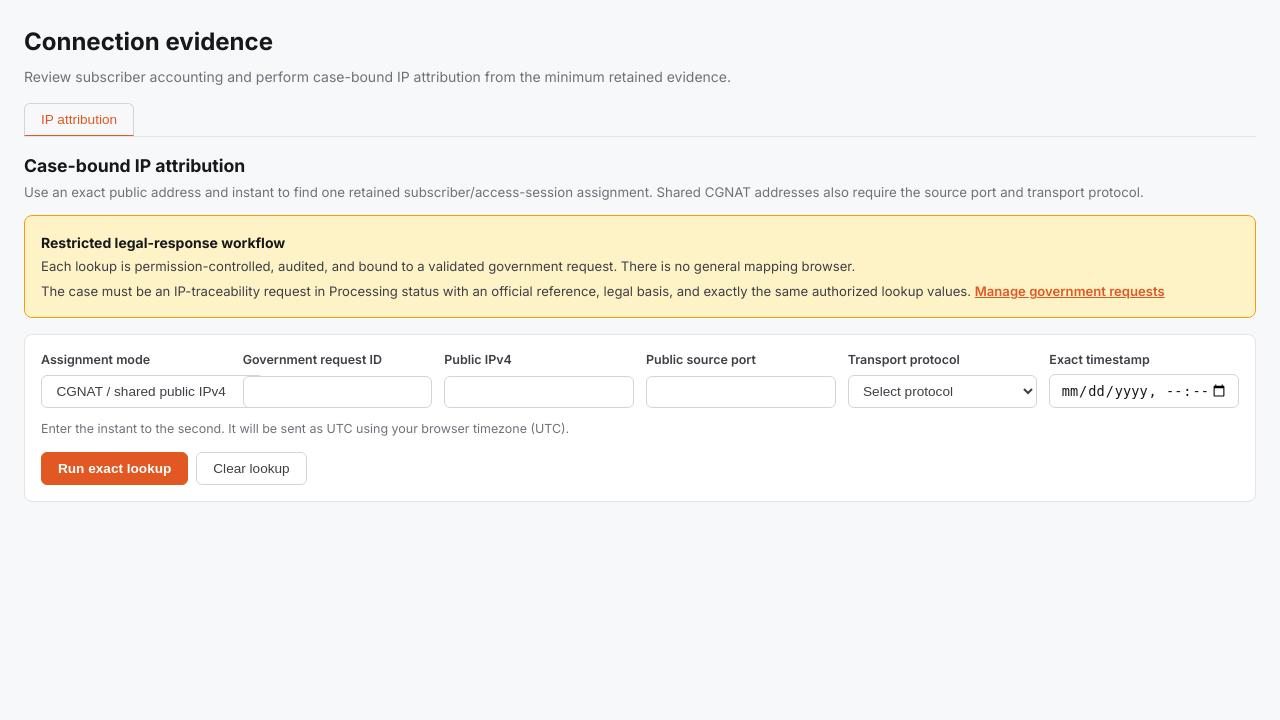
Scenario: ConnectionLogList › refuses to download case evidence when the CSV bytes fail the server checksum
Check: the tab "IP attribution" is shown, box x1=24 y1=103 x2=134 y2=136
Type "73" into the number field labelled "Government request ID" at (338, 392), box x1=243 y1=376 x2=432 y2=408
Type "198.51.100.8" into the field labelled "Public IPv4" at (539, 392), box x1=444 y1=376 x2=634 y2=408
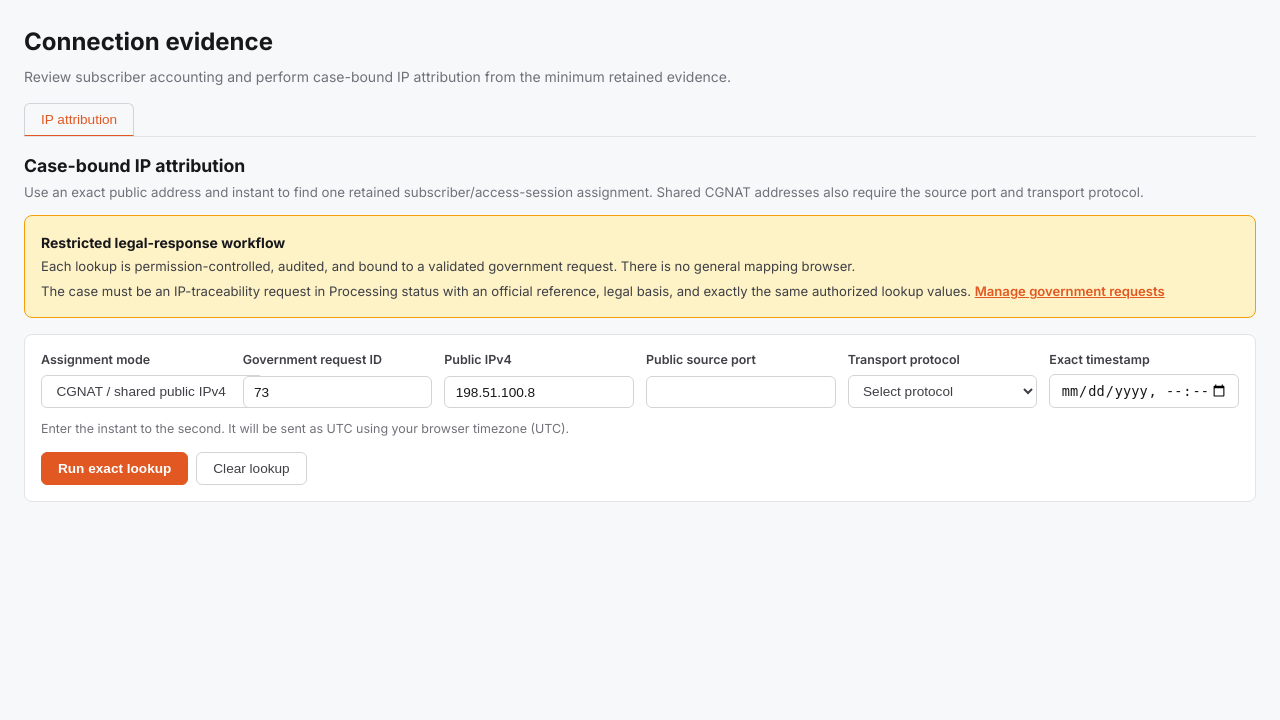
Type "62001" into the number field labelled "Public source port" at (741, 392), box x1=646 y1=376 x2=836 y2=408
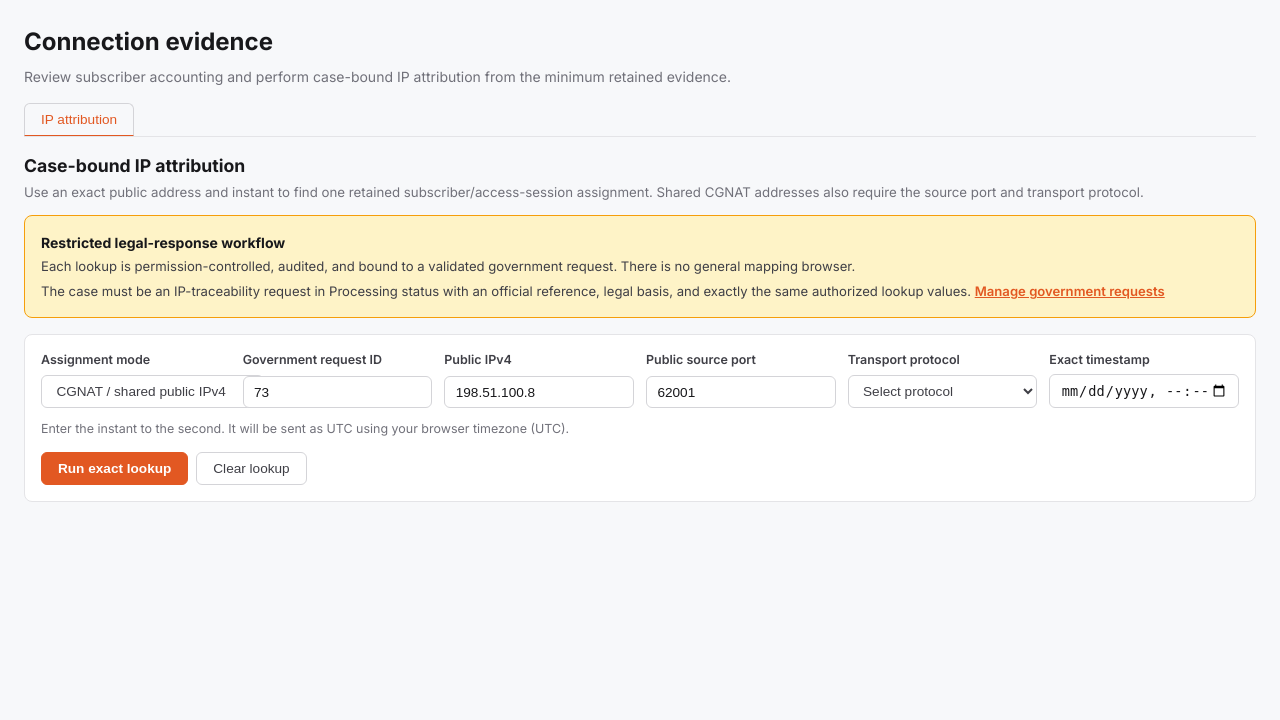
Select "TCP" in the dropdown labelled "Transport protocol" at (943, 392), box x1=848 y1=375 x2=1037 y2=408
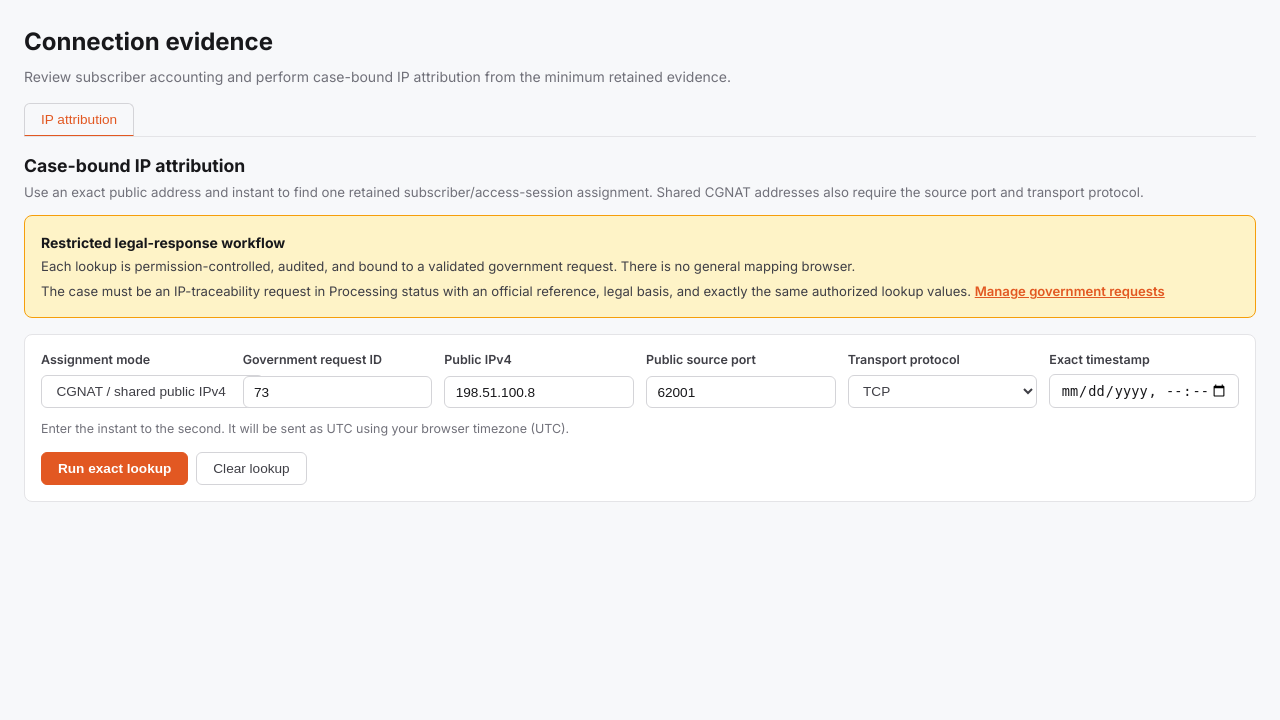
Type "2026-08-14T10:15:01" into the field labelled "Exact timestamp" at (1144, 391), box x1=1049 y1=374 x2=1239 y2=408
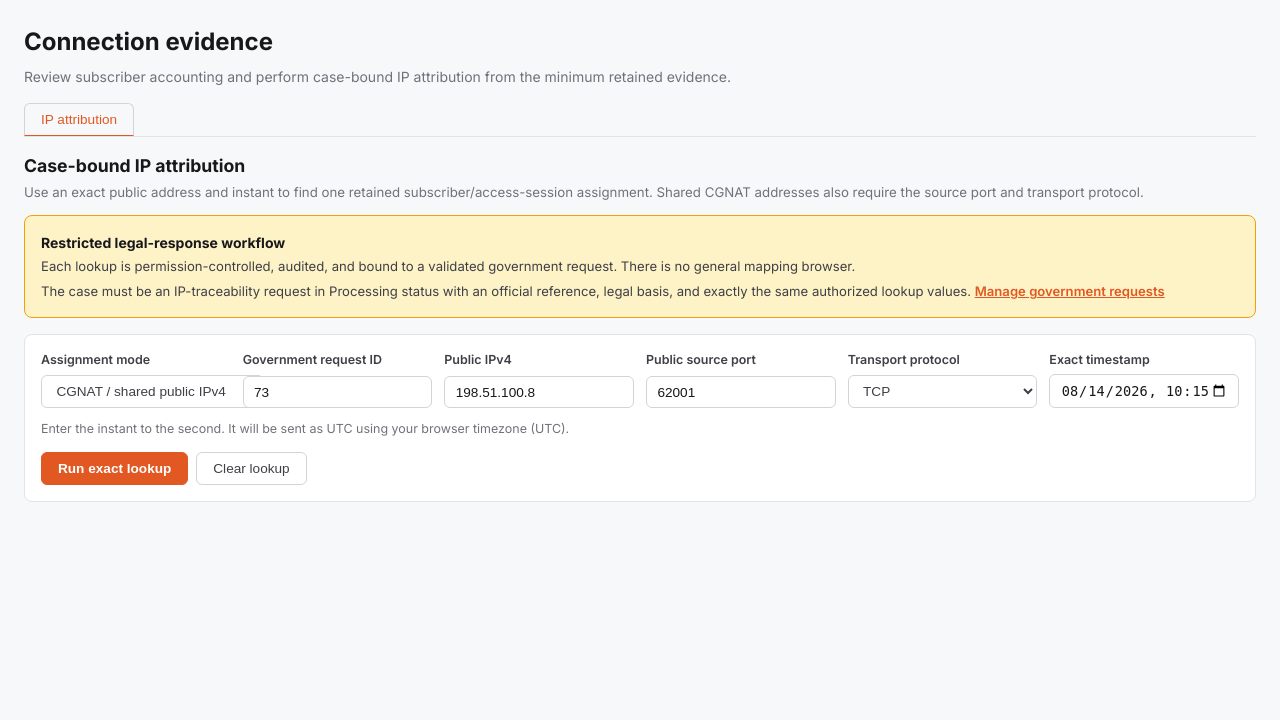
Click the button "Run exact lookup" at (115, 469), box x1=41 y1=452 x2=188 y2=485
(page scrolled)
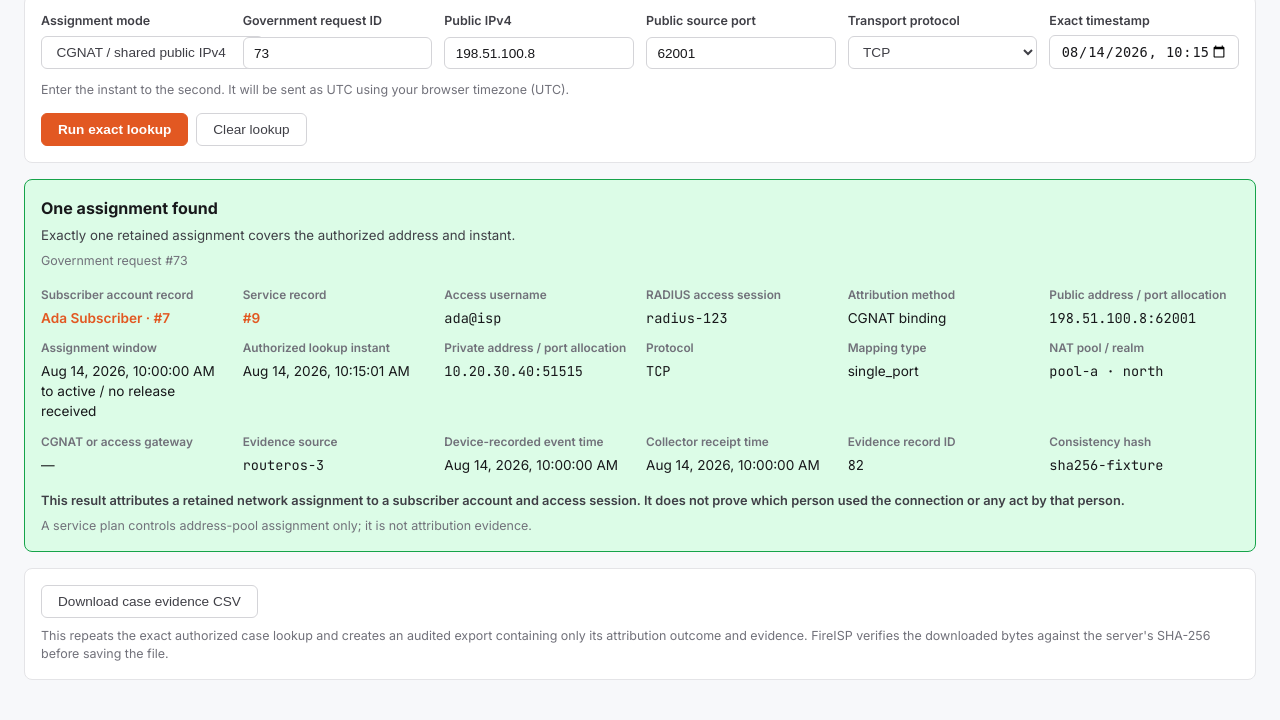
Click the button "Download case evidence CSV" at (149, 602), box x1=41 y1=585 x2=258 y2=618
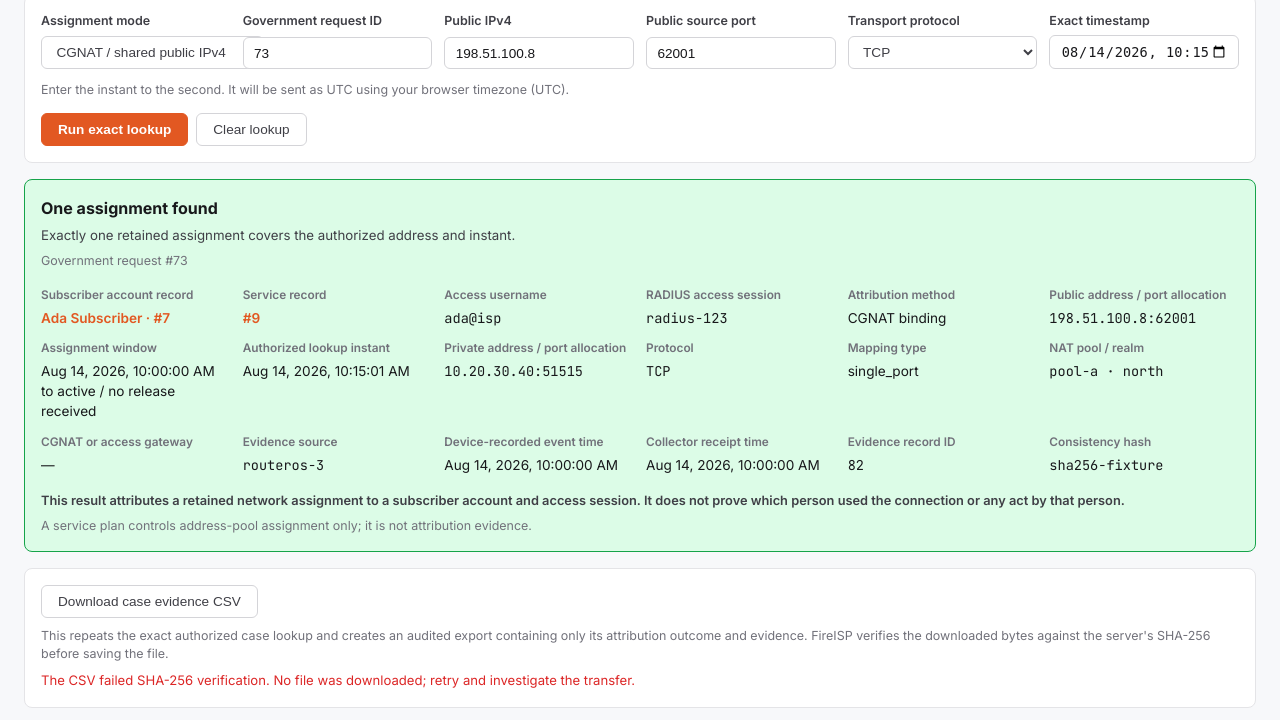
Check: the message shows "The CSV failed SHA-256 verification. No file was downloaded", box x1=41 y1=672 x2=635 y2=688
